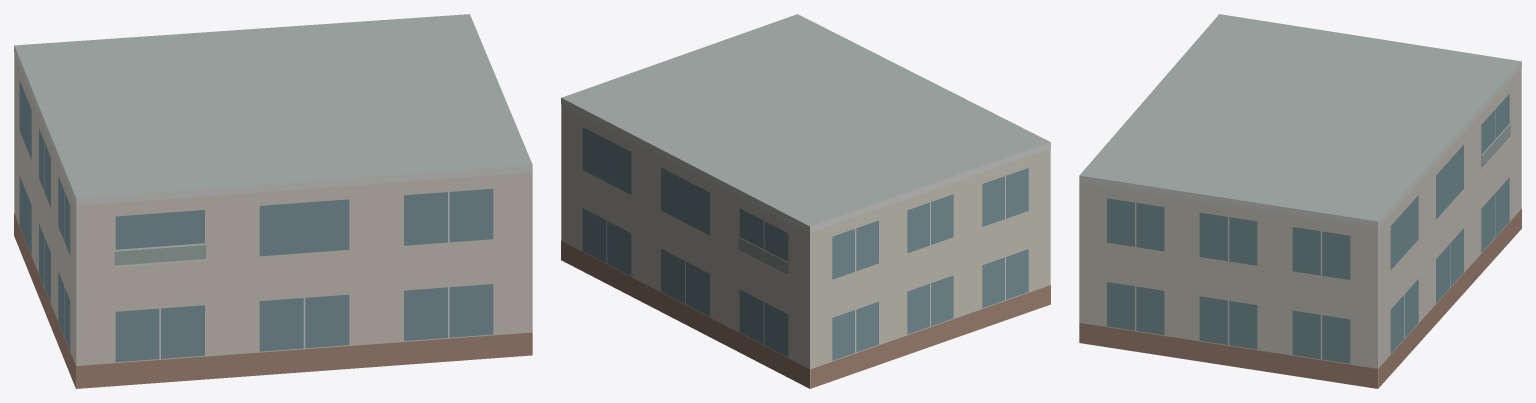
File: survey-upis-32888334.glb
The picture shows the model from 3 angles, left to right: view 1: azimuth 30°, elevation 25°; view 2: azimuth 150°, elevation 25°; view 3: azimuth 270°, elevation 25°; orthographic projection. The views are drawn at different scales.
Visible parts, largest first — view 1: survey-upis-32888334.tmp; view 2: survey-upis-32888334.tmp; view 3: survey-upis-32888334.tmp.
Part boxes in pixels (x1=…): survey-upis-32888334.tmp: x1=14, y1=14, x2=532, y2=388; survey-upis-32888334.tmp: x1=561, y1=14, x2=1050, y2=388; survey-upis-32888334.tmp: x1=1079, y1=14, x2=1521, y2=388.
Size of the model in its own units: 16.23 by 6.1 by 14.62.
